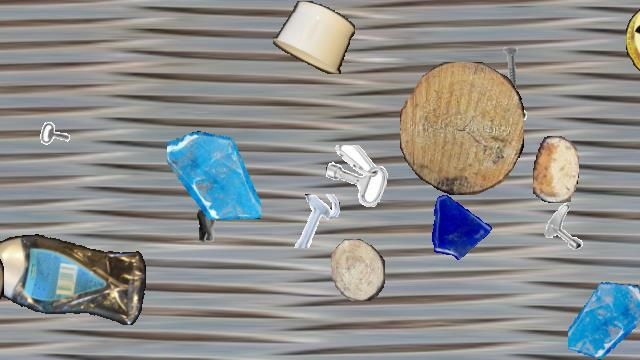glass: (167, 130, 261, 224), (568, 281, 640, 359), (422, 189, 492, 259)
metal: (475, 99, 537, 161), (326, 145, 388, 207), (288, 194, 342, 248), (538, 200, 592, 254), (182, 202, 232, 252), (487, 45, 535, 93), (40, 108, 80, 148), (636, 157, 640, 201)
plastic: (0, 233, 145, 329), (273, 1, 355, 73), (626, 1, 640, 79)
wood: (400, 62, 524, 194), (331, 239, 385, 301), (533, 136, 579, 202), (0, 244, 4, 318)
